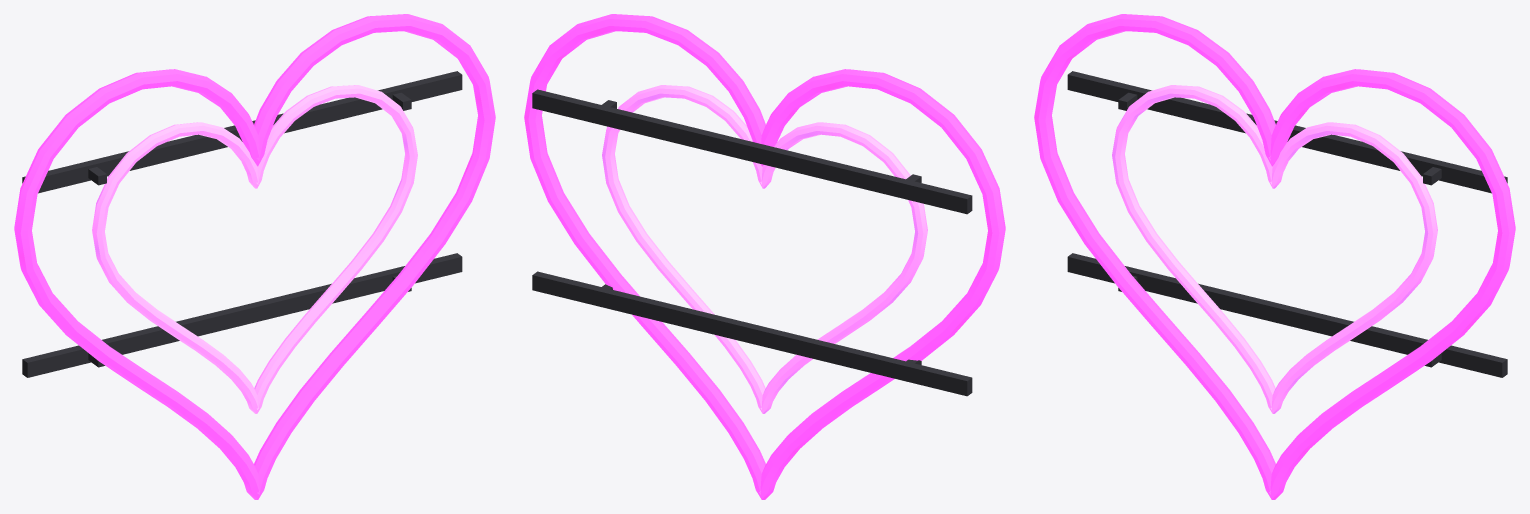
Rendered from KIT_Placa_Coracao.glb.
The picture shows the model from 3 angles, left to right: view 1: azimuth 30°, elevation 25°; view 2: azimuth 150°, elevation 25°; view 3: azimuth 330°, elevation 25°; orthographic projection.
Parts seen in each view (by area): view 1: KIT_Placa_Coracao; view 2: KIT_Placa_Coracao; view 3: KIT_Placa_Coracao.
Part boxes in pixels (bbox=[...]): KIT_Placa_Coracao: bbox=[14, 14, 495, 499]; KIT_Placa_Coracao: bbox=[524, 14, 1005, 499]; KIT_Placa_Coracao: bbox=[1034, 14, 1515, 499].
Size of the model in its own units: 0.662 by 0.6004 by 0.047.
